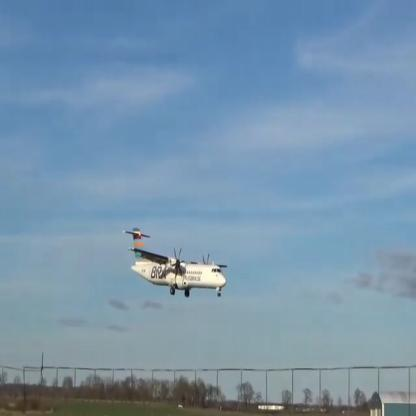aircraft: (125, 227, 228, 297)
